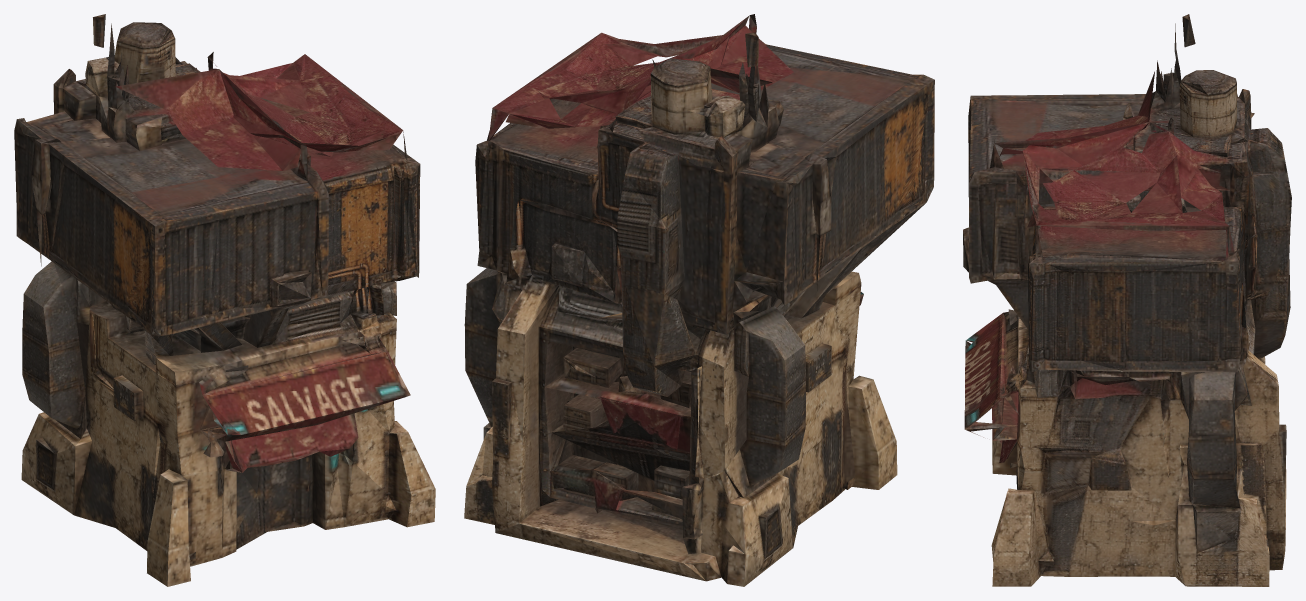
The model's file is salvage.glb.
3 views of the same model, side by side, from view 1: azimuth 30°, elevation 25°; view 2: azimuth 150°, elevation 25°; view 3: azimuth 270°, elevation 25° (orthographic). The views are drawn at different scales.
Size of the model in its own units: 1.21 by 1.77 by 1.14.
1 material, 1 textured.
